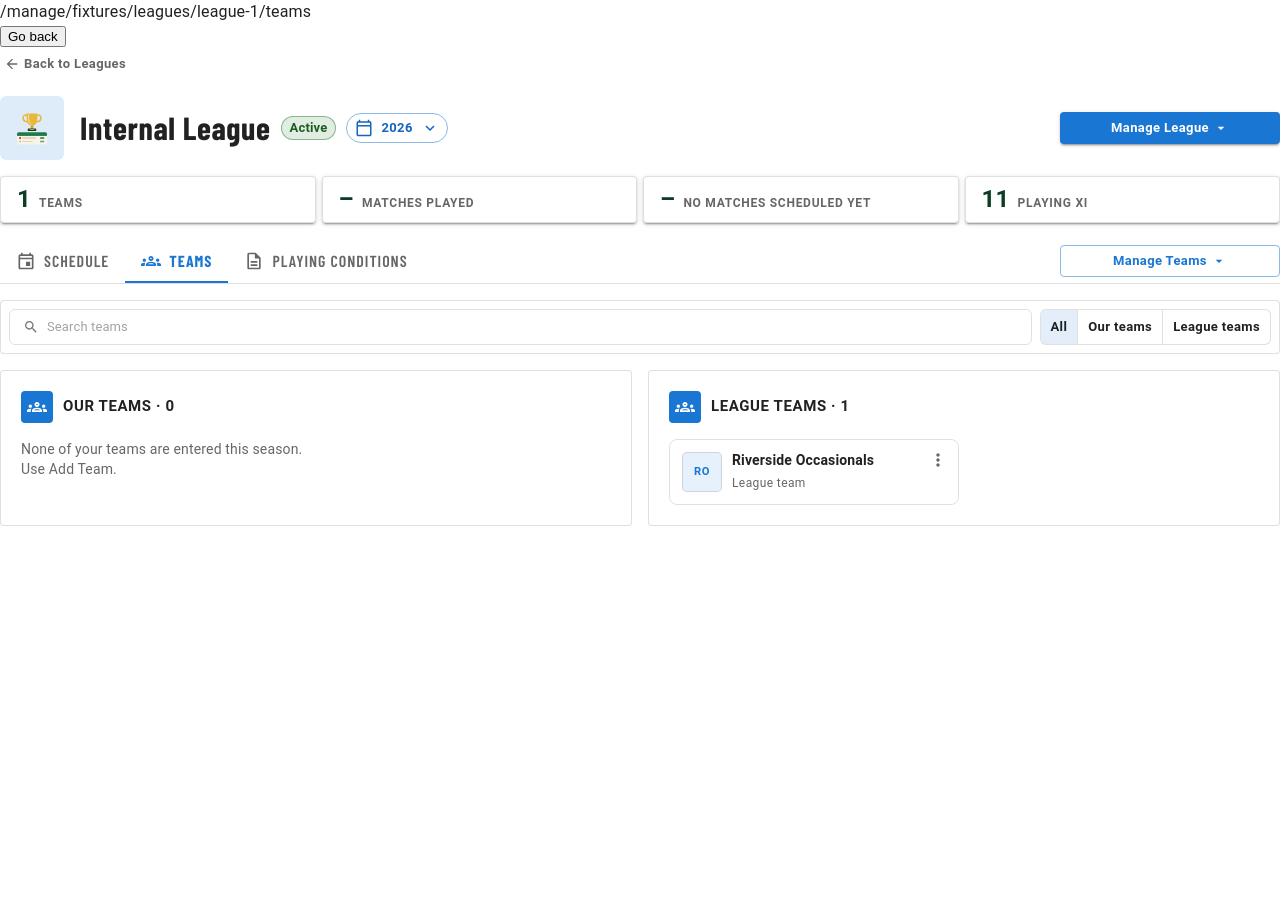
Test case: LeagueTeamsView › add actions › Add Team opens the chooser; Cancel closes it
Step 1. Click the button "Manage Teams" → (1170, 261), box [1060,245,1279,277]
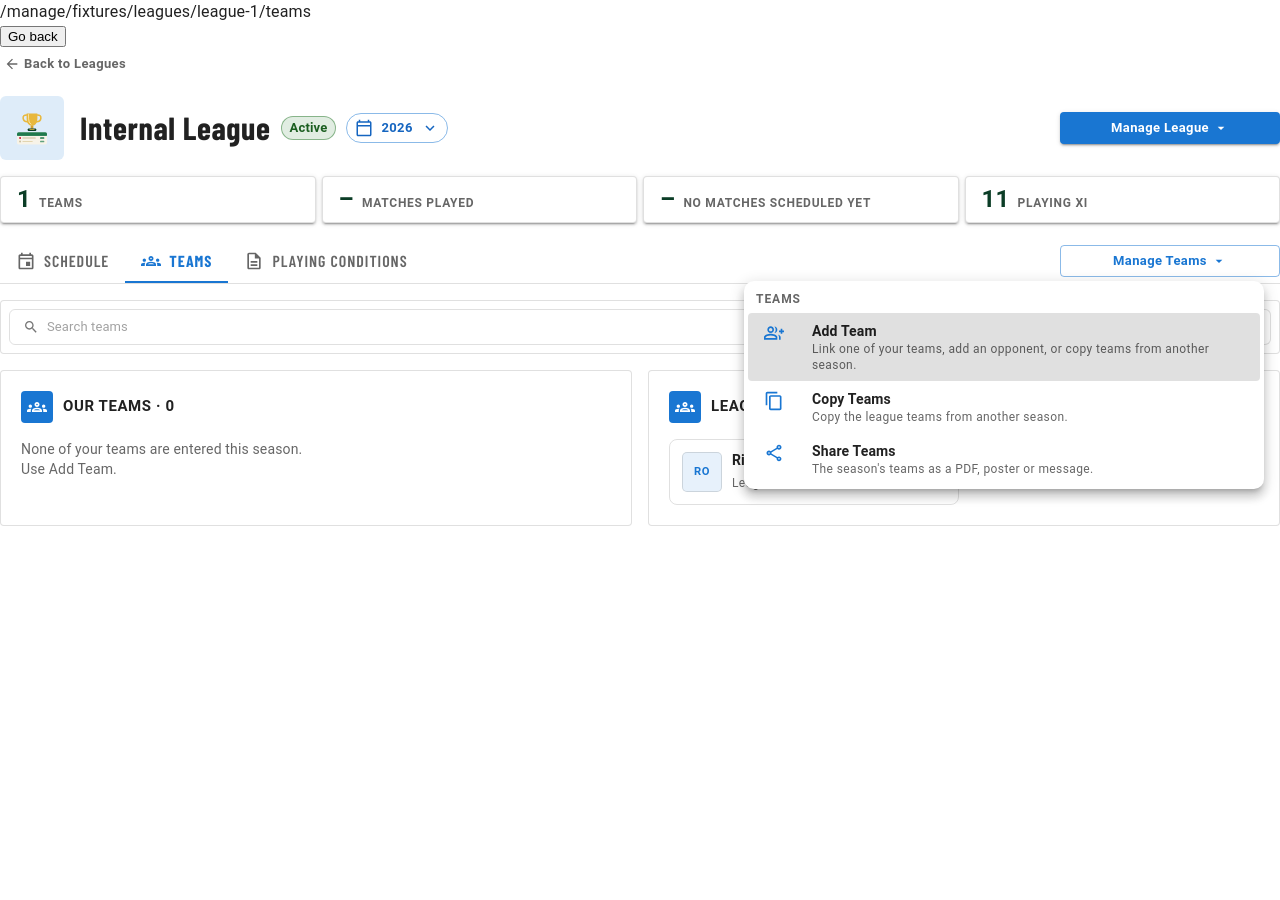
Step 2. Click the menu item "Add Team" → (1004, 347), box [748,313,1260,381]
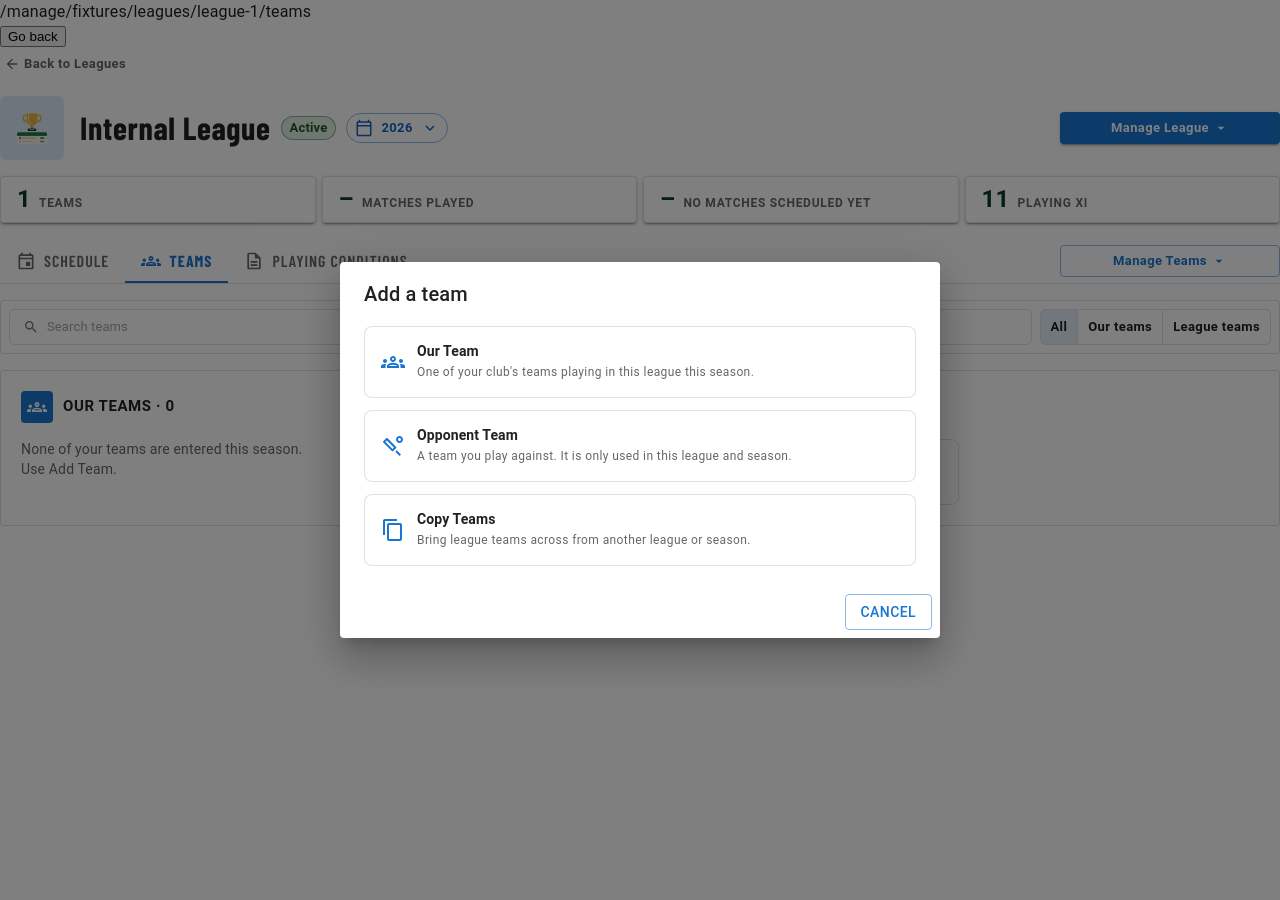
Now the dialog "Add a team" is shown, box [340,262,940,638]
Step 3. Click the button "Cancel" → (888, 612), box [844,594,932,630]
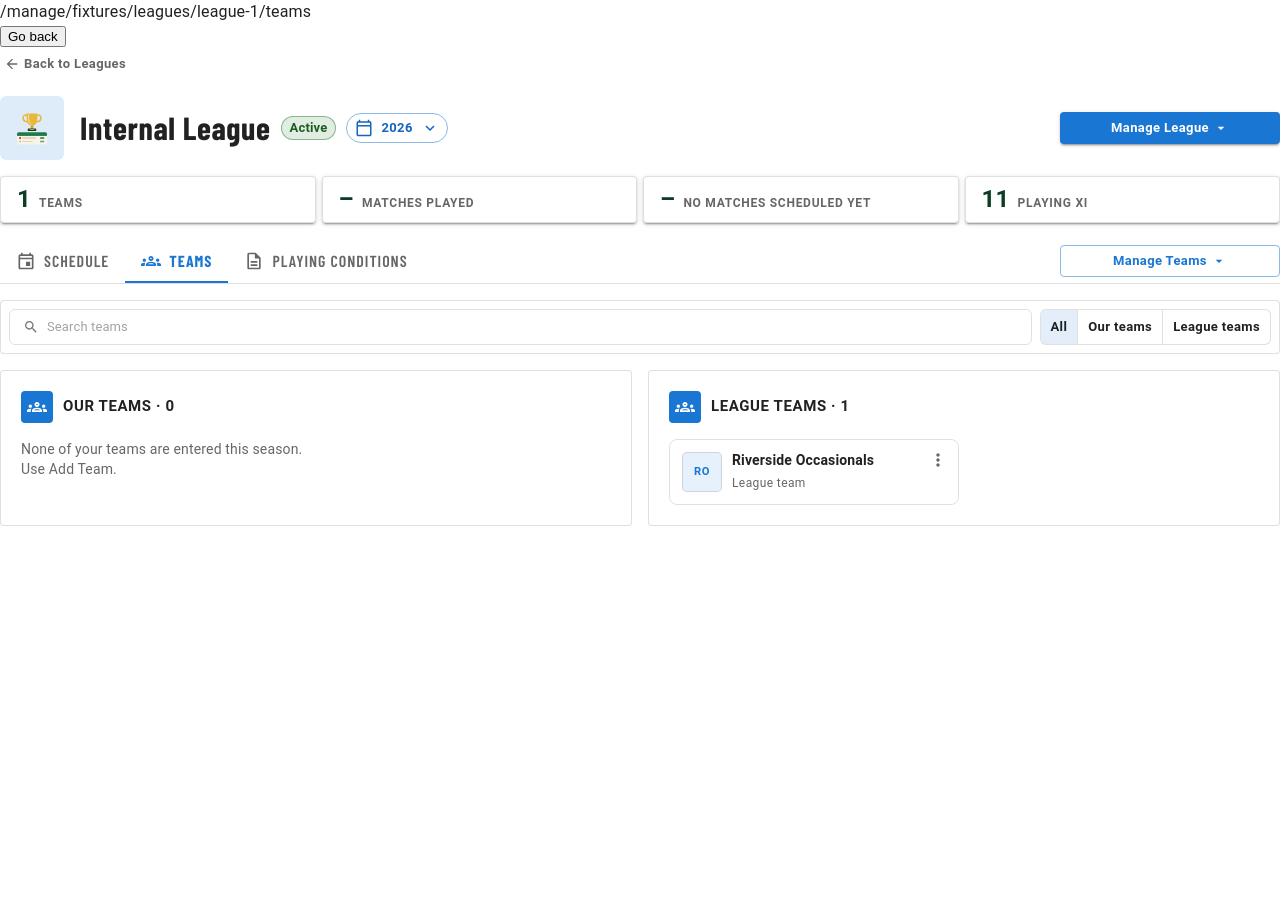
Now the heading "Add a team" is gone
